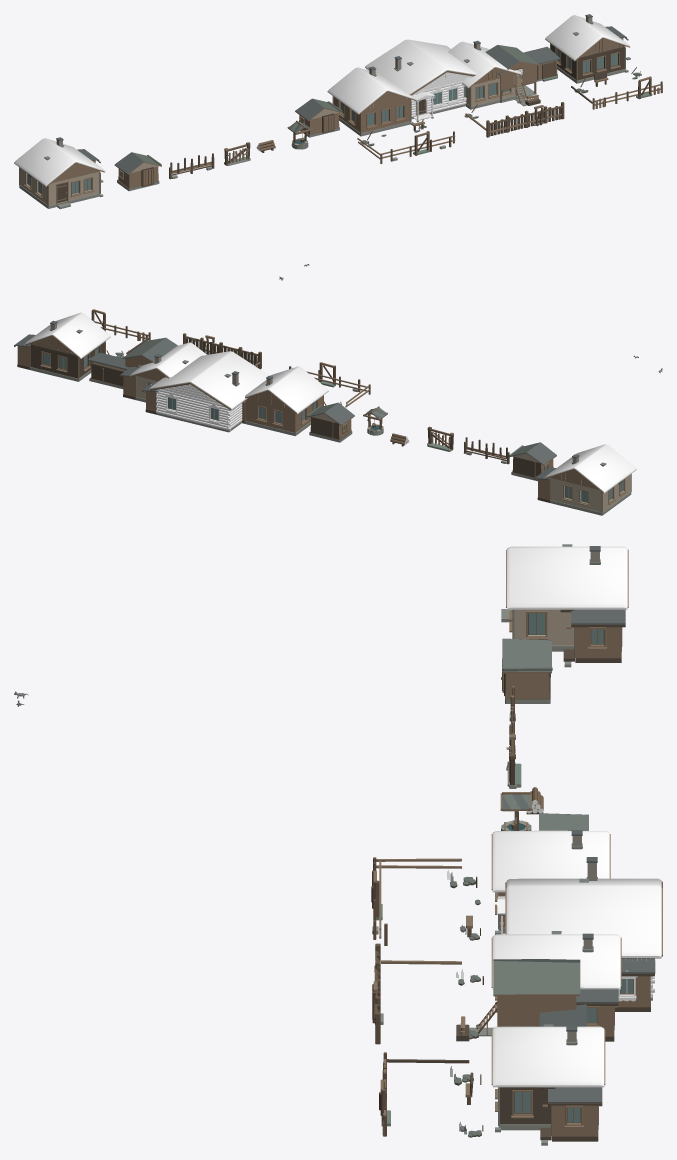
The model's file is urman_village_exterior_kit.glb.
The picture shows the model from 3 angles, top to bottom: view 1: azimuth 30°, elevation 25°; view 2: azimuth 150°, elevation 25°; view 3: azimuth 270°, elevation 25°; orthographic projection. The views are drawn at different scales.
Visible parts, largest first — view 1: HeroHouse_RoofSnow_LOD0, DwellingFacade_RoofSnow_LOD0, VariantA_TimberGable_Dwelling_RoofSnow_LOD0, VariantC_BanyaYard_Dwelling_RoofSnow_LOD0, VariantB_PlasterAnnex_Dwelling_RoofSnow_LOD0, VariantA_TimberGable_Dwelling_Street_Wall_LOD0, VariantC_BanyaYard_Dwelling_Street_Wall_LOD0, HeroYardShed_Roof_LOD0, DwellingFacade_Street_Wall_LOD0, VariantB_PlasterAnnex_Dwelling_Street_Wall_LOD0, OutbuildingShed_Roof_LOD0, VariantA_Shed_Roof_LOD0 (+1 smaller); view 2: HeroHouse_RoofSnow_LOD0, DwellingFacade_RoofSnow_LOD0, VariantA_TimberGable_Dwelling_RoofSnow_LOD0, VariantC_BanyaYard_Dwelling_RoofSnow_LOD0, VariantB_PlasterAnnex_Dwelling_RoofSnow_LOD0, DwellingFacade_Rear_Wall_LOD0, VariantC_BanyaYard_Dwelling_Rear_Wall_LOD0, VariantA_TimberGable_Dwelling_Rear_Wall_LOD0, HeroYardShed_Roof_LOD0, VariantA_Shed_Wall_LOD0, VariantC_Utility_Wall_LOD0, VariantA_Shed_Roof_LOD0 (+7 smaller); view 3: HeroHouse_RoofSnow_LOD0, DwellingFacade_RoofSnow_LOD0, VariantC_BanyaYard_Dwelling_RoofSnow_LOD0, VariantA_TimberGable_Dwelling_RoofSnow_LOD0, VariantB_PlasterAnnex_Dwelling_RoofSnow_LOD0, HeroYardShed_Roof_LOD0, HeroYardShed_Right_Wall_LOD0, OutbuildingShed_Roof_LOD0, DwellingFacade_Right_Wall_LOD0, VariantC_BanyaYard_Dwelling_Right_Wall_LOD0, OutbuildingShed_Wall_LOD0, DwellingFacade_SeniOuter_Wall_LOD0 (+4 smaller).
Boxes of the visible parts, x1,y1,x2,y2 form: HeroHouse_RoofSnow_LOD0: (365, 39, 476, 94); DwellingFacade_RoofSnow_LOD0: (14, 138, 105, 186); VariantA_TimberGable_Dwelling_RoofSnow_LOD0: (327, 67, 416, 114); VariantC_BanyaYard_Dwelling_RoofSnow_LOD0: (545, 15, 630, 61); VariantB_PlasterAnnex_Dwelling_RoofSnow_LOD0: (448, 41, 521, 88); VariantA_TimberGable_Dwelling_Street_Wall_LOD0: (361, 99, 410, 132); VariantC_BanyaYard_Dwelling_Street_Wall_LOD0: (577, 46, 624, 80); HeroYardShed_Roof_LOD0: (485, 45, 539, 74); DwellingFacade_Street_Wall_LOD0: (49, 172, 99, 205); VariantB_PlasterAnnex_Dwelling_Street_Wall_LOD0: (471, 75, 515, 106); OutbuildingShed_Roof_LOD0: (114, 152, 161, 174); VariantA_Shed_Roof_LOD0: (295, 98, 342, 121); HeroHouse_RoofSnow_LOD0: (149, 351, 269, 409); DwellingFacade_RoofSnow_LOD0: (544, 444, 636, 493); VariantA_TimberGable_Dwelling_RoofSnow_LOD0: (245, 366, 328, 414); VariantC_BanyaYard_Dwelling_RoofSnow_LOD0: (24, 312, 110, 358); VariantB_PlasterAnnex_Dwelling_RoofSnow_LOD0: (130, 342, 206, 377); DwellingFacade_Rear_Wall_LOD0: (550, 477, 601, 512); VariantC_BanyaYard_Dwelling_Rear_Wall_LOD0: (30, 344, 77, 378); VariantA_TimberGable_Dwelling_Rear_Wall_LOD0: (245, 399, 294, 432); HeroYardShed_Roof_LOD0: (122, 337, 177, 362); VariantA_Shed_Wall_LOD0: (310, 417, 351, 439); VariantC_Utility_Wall_LOD0: (91, 362, 125, 386); VariantA_Shed_Roof_LOD0: (307, 402, 354, 425); HeroHouse_RoofSnow_LOD0: (506, 878, 661, 957); DwellingFacade_RoofSnow_LOD0: (507, 546, 627, 609); VariantC_BanyaYard_Dwelling_RoofSnow_LOD0: (492, 1026, 604, 1087); VariantA_TimberGable_Dwelling_RoofSnow_LOD0: (492, 830, 609, 892); VariantB_PlasterAnnex_Dwelling_RoofSnow_LOD0: (492, 934, 620, 989); HeroYardShed_Roof_LOD0: (493, 959, 580, 996); HeroYardShed_Right_Wall_LOD0: (497, 996, 576, 1024); OutbuildingShed_Roof_LOD0: (502, 638, 551, 673); DwellingFacade_Right_Wall_LOD0: (514, 609, 574, 645); VariantC_BanyaYard_Dwelling_Right_Wall_LOD0: (500, 1087, 550, 1124); OutbuildingShed_Wall_LOD0: (505, 673, 549, 698); DwellingFacade_SeniOuter_Wall_LOD0: (575, 627, 621, 657).
Bounding box in the file's own units: 71.77 × 5.37 × 36.12.
